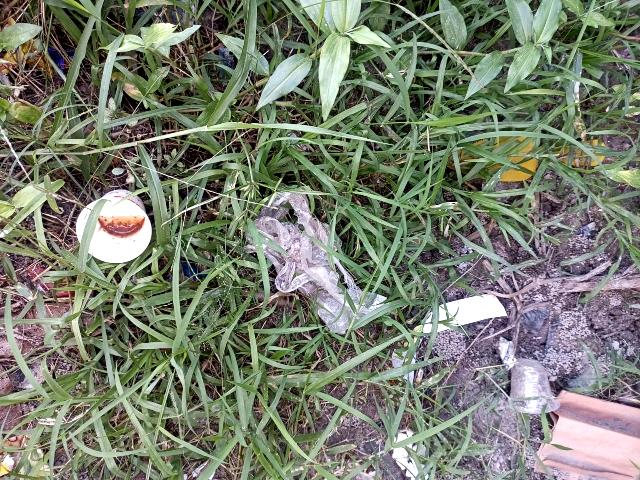polythene: (220, 166, 401, 360)
